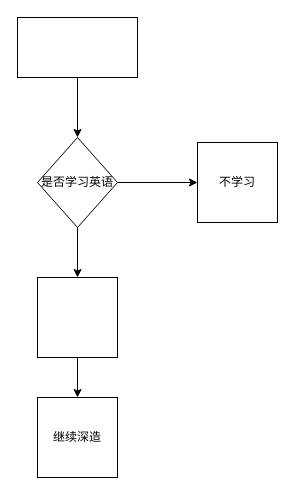
This 295x495 diagram has some shape labels left out. Here are the shapes that lost their labels. From the top down, the centre of each, then its label:
At (x=77, y=47): "开始实验".
At (x=77, y=317): "学习".
